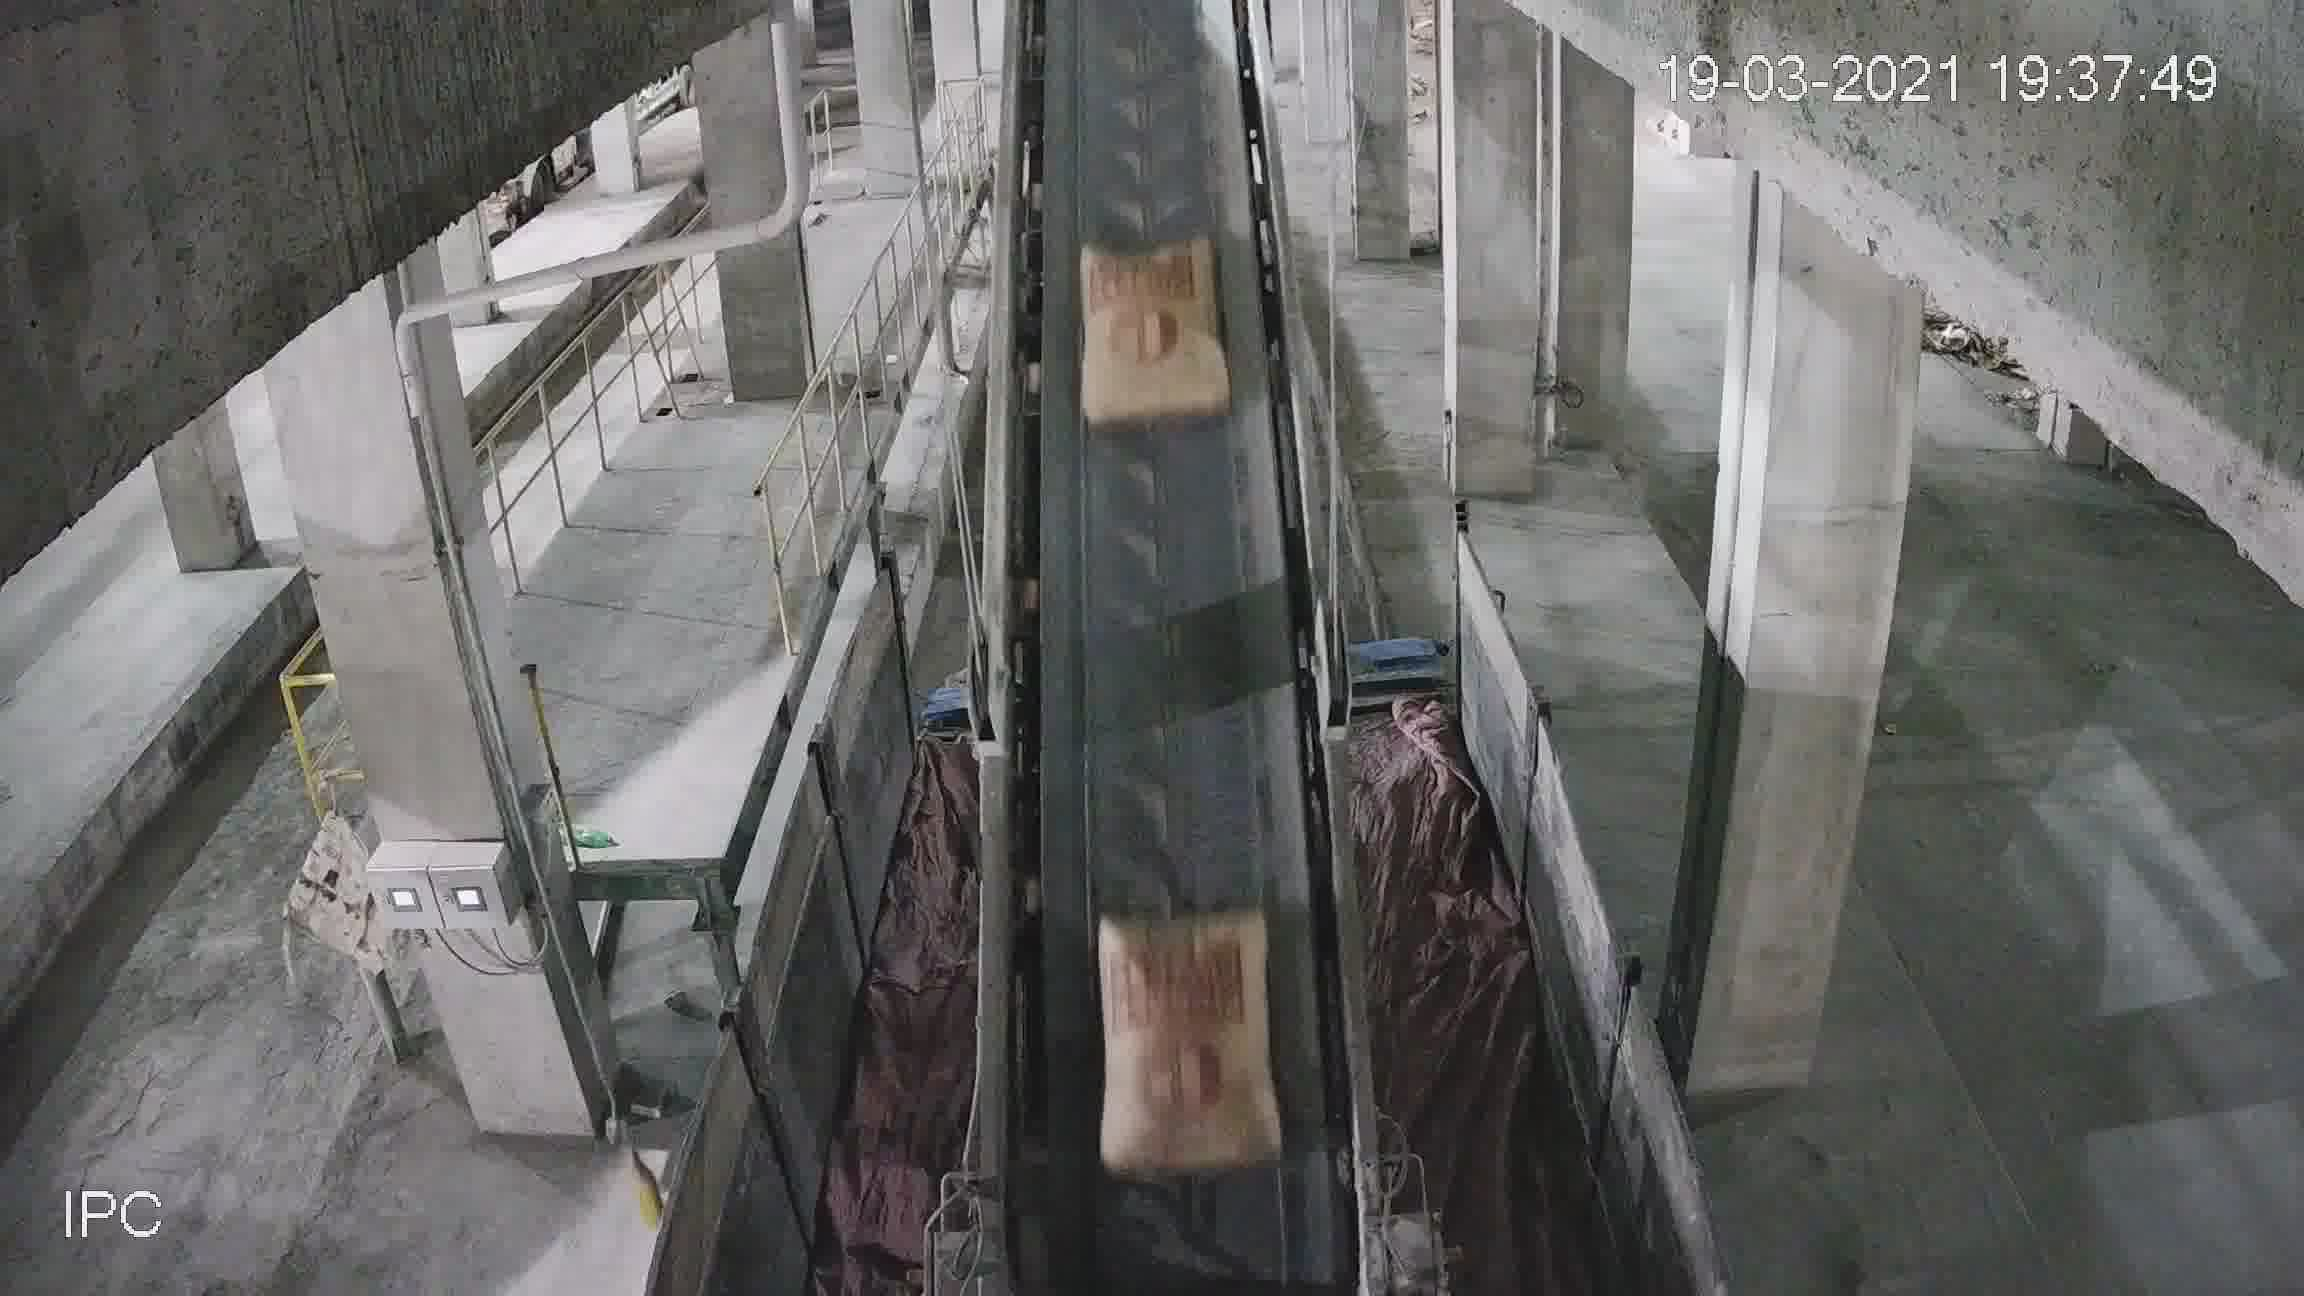bag: (1105, 916, 1275, 1161), (1082, 255, 1222, 418)
belt: (987, 59, 1337, 1163)
